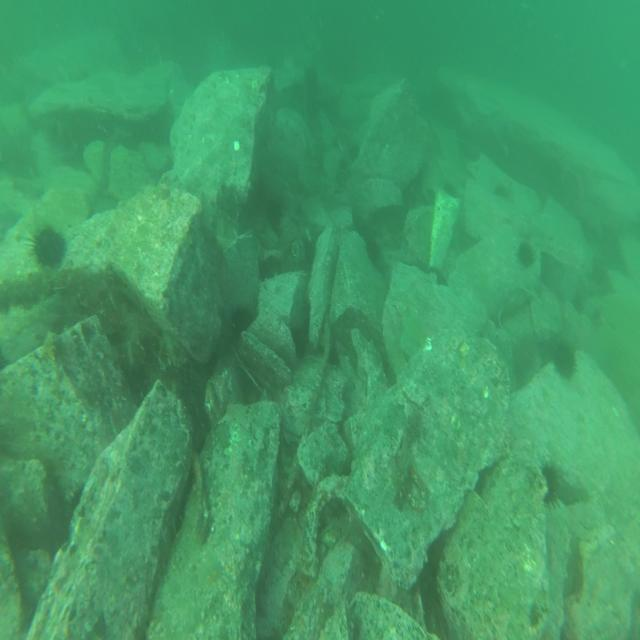echinus: (32, 225, 66, 272), (554, 343, 579, 381), (539, 464, 561, 506), (518, 239, 534, 270)
